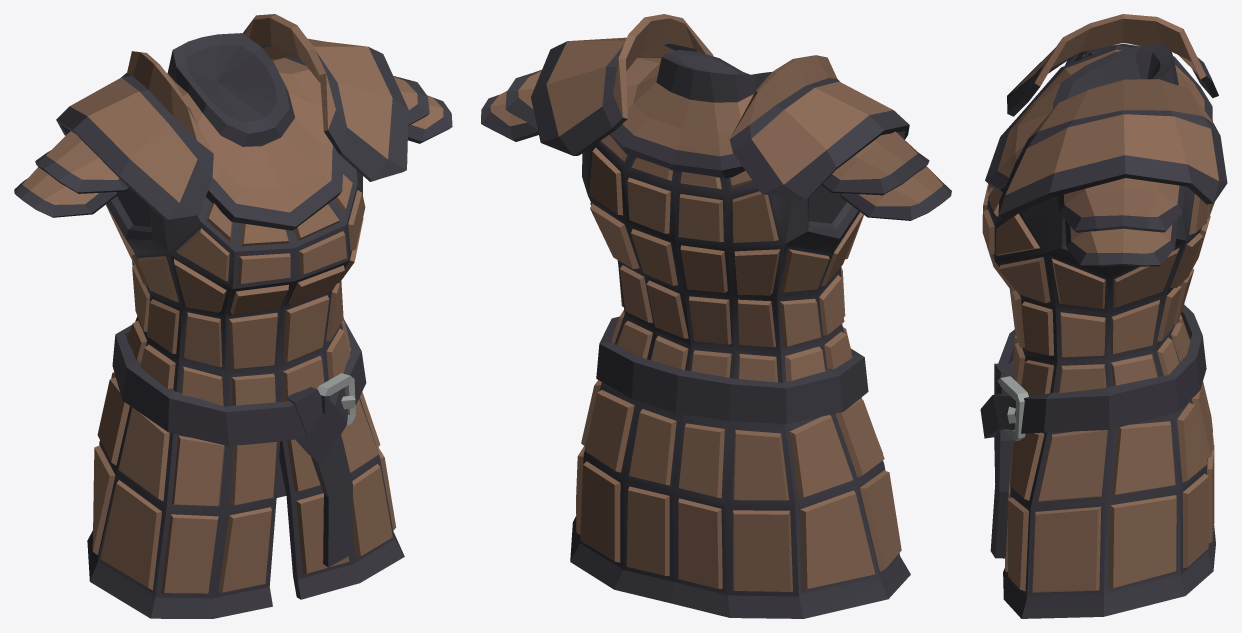
The model's file is armorPlatedLeatherDisplay.fbx.
3 renders of one model, left to right at view 1: azimuth 30°, elevation 25°; view 2: azimuth 150°, elevation 25°; view 3: azimuth 270°, elevation 25°, orthographic. The views are drawn at different scales.
Parts seen in each view (by area): view 1: armorPlatedLeatherDisplay; view 2: armorPlatedLeatherDisplay; view 3: armorPlatedLeatherDisplay.
Part boxes in pixels (x1=…): armorPlatedLeatherDisplay: x1=14, y1=14, x2=452, y2=618; armorPlatedLeatherDisplay: x1=481, y1=14, x2=951, y2=618; armorPlatedLeatherDisplay: x1=980, y1=14, x2=1227, y2=618.
Bounding box in the file's own units: 1.5 × 1.76 × 0.7566.
